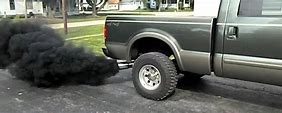smoke: (1, 17, 103, 89)
